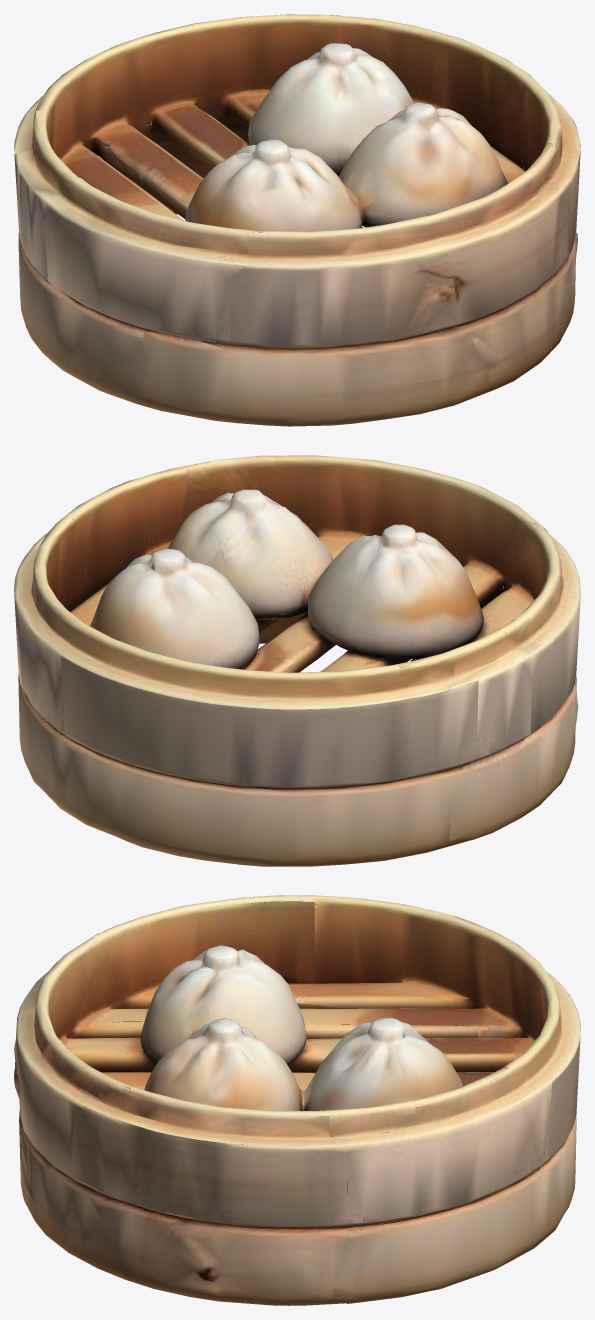
Rendered from dim_sum.glb.
3 views of the same model, one above another, from view 1: azimuth 30°, elevation 25°; view 2: azimuth 150°, elevation 25°; view 3: azimuth 270°, elevation 25° (orthographic).
Parts seen in each view (by area): view 1: dim_sum; view 2: dim_sum; view 3: dim_sum.
Boxes of the visible parts, x1=… form: dim_sum: x1=14, y1=14, x2=580, y2=426; dim_sum: x1=14, y1=455, x2=580, y2=866; dim_sum: x1=14, y1=895, x2=580, y2=1305.
Bounding box in the file's own units: 0.3992 × 0.1651 × 0.4.
Materials: 1 (1 with a texture image).
